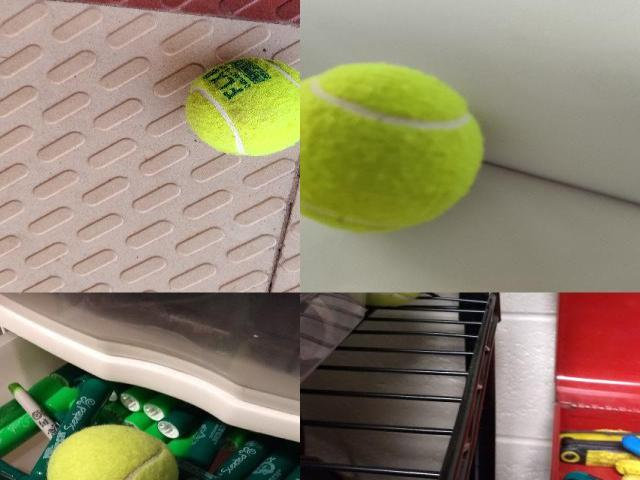tennis-ball: (300, 61, 486, 236), (185, 58, 299, 155), (44, 424, 182, 479), (375, 292, 429, 306)
